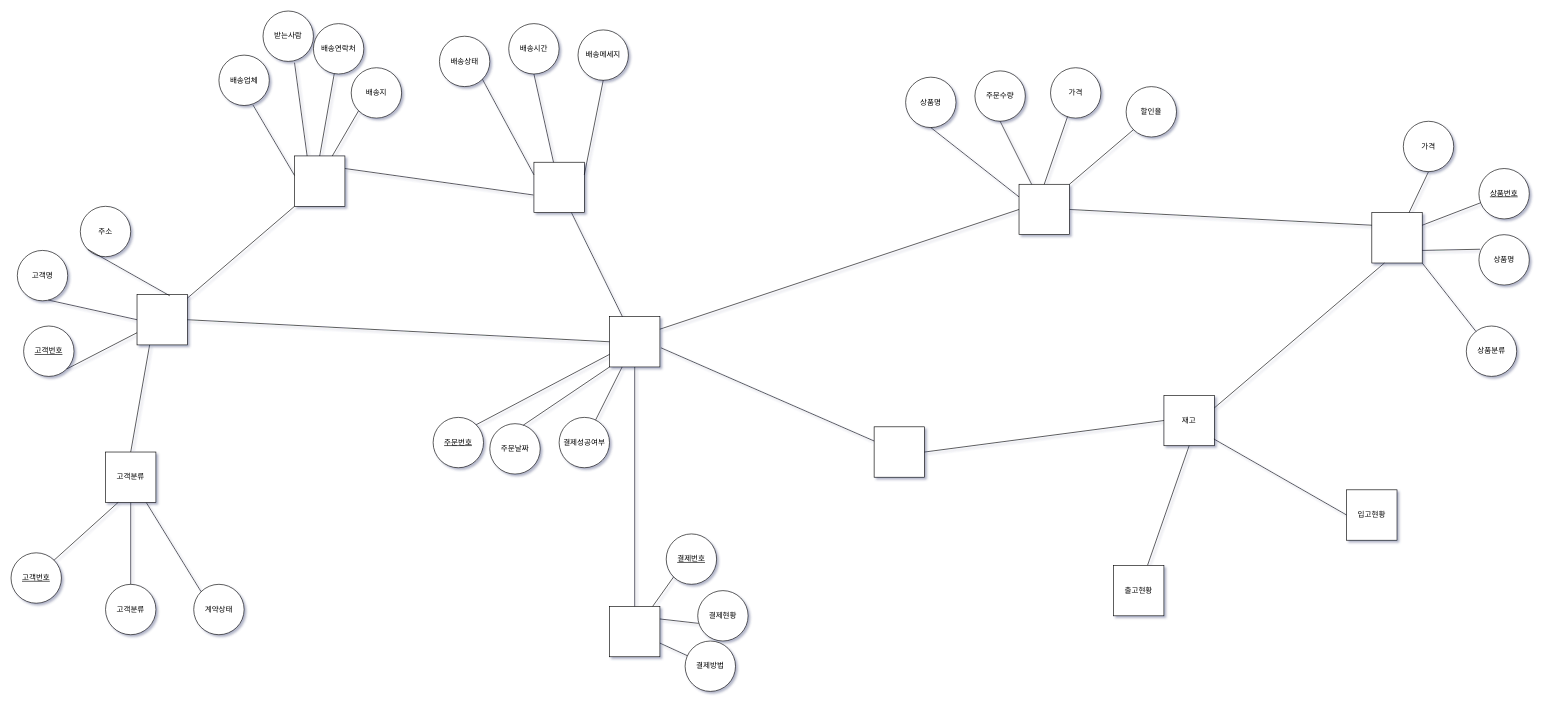
Image size: 1544x706. Some labels were removed from this diagram. Here are the shapes that lost their labels. From the top down, the centre of each, then its label:
At pixel 319 180: "배송현황".
At pixel 558 187: "배송".
At pixel 1043 209: "주문상세".
At pixel 1396 237: "상품".
At pixel 161 319: "고객".
At pixel 634 341: "주문".
At pixel 899 451: "수익".
At pixel 634 631: "결제".
